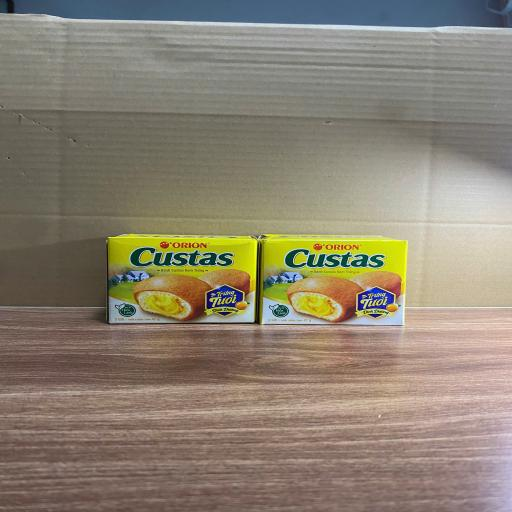custas: (106, 234, 259, 324), (259, 234, 408, 326)
